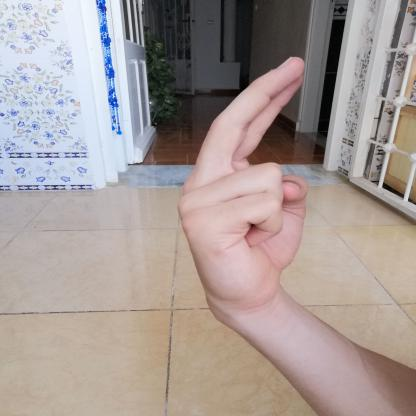ZAY: (167, 45, 322, 322)
